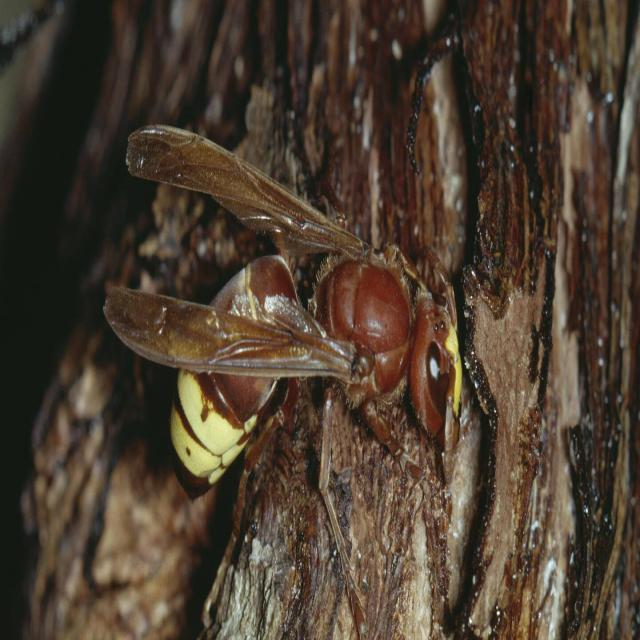Vespa Orientalis: (80, 114, 493, 639)
